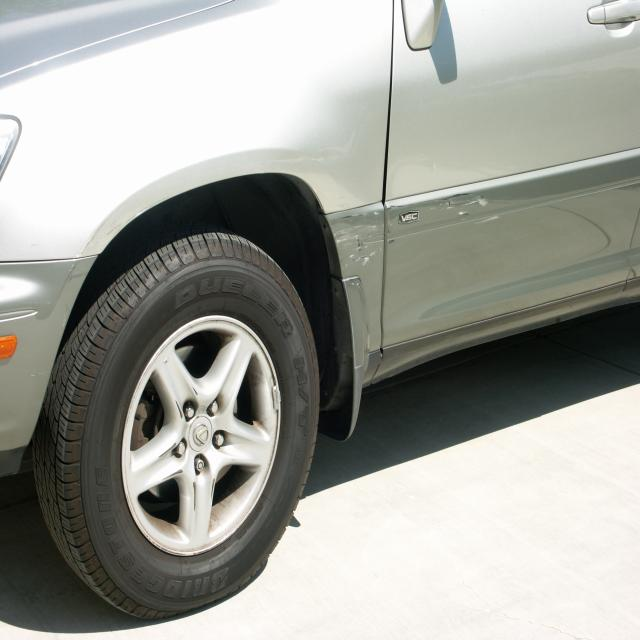scratch: (326, 186, 505, 293), (58, 195, 170, 298)
